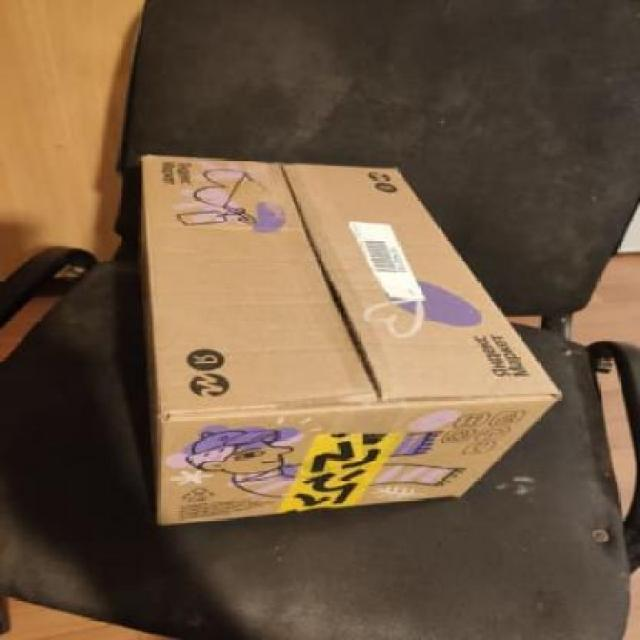box: (128, 144, 557, 528)
